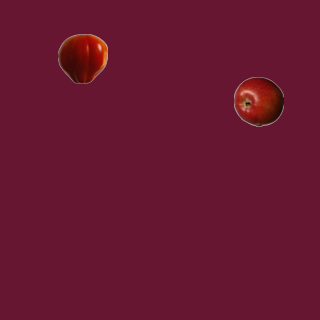Apple Braeburn: (233, 76, 283, 126)
Tomato 1: (57, 33, 107, 83)
